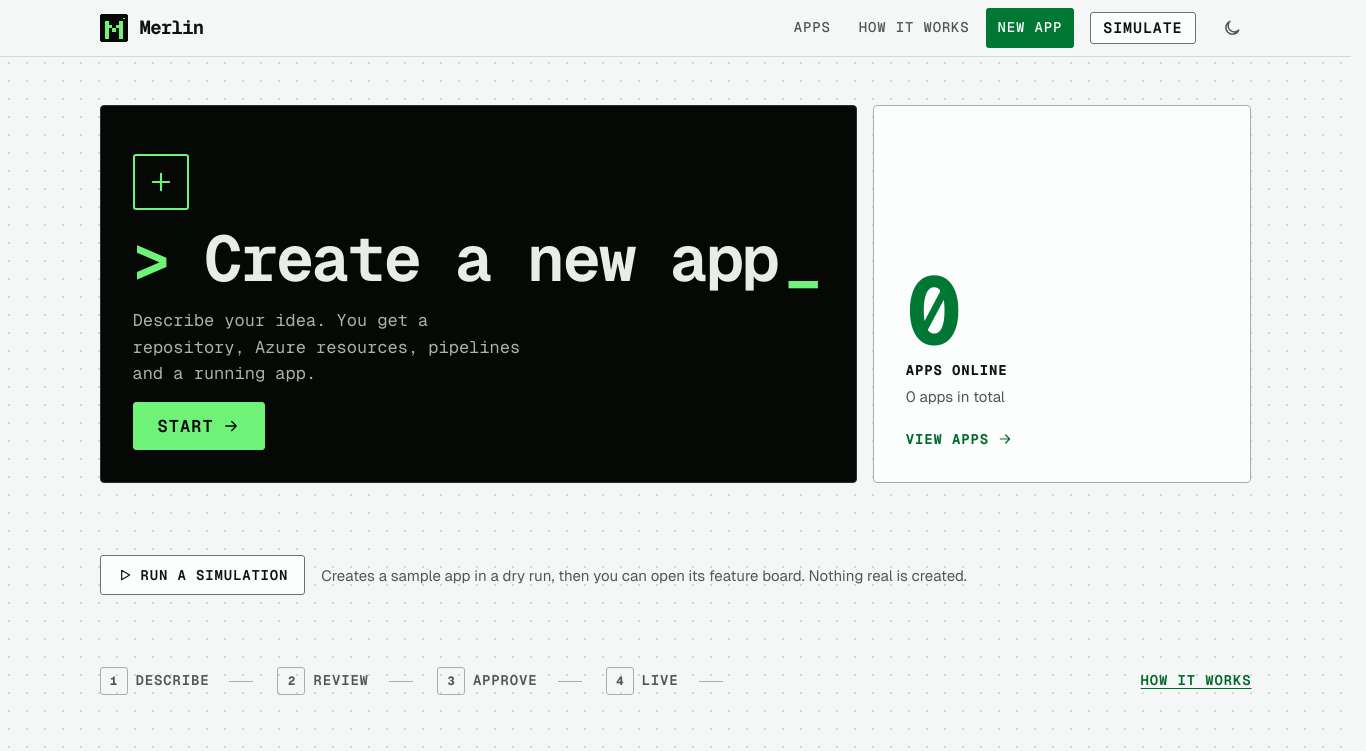
it: Merlin › starts a simulated dry run and opens its progress
Click the button "Run a simulation" at (202, 575), box [100,555,305,595]
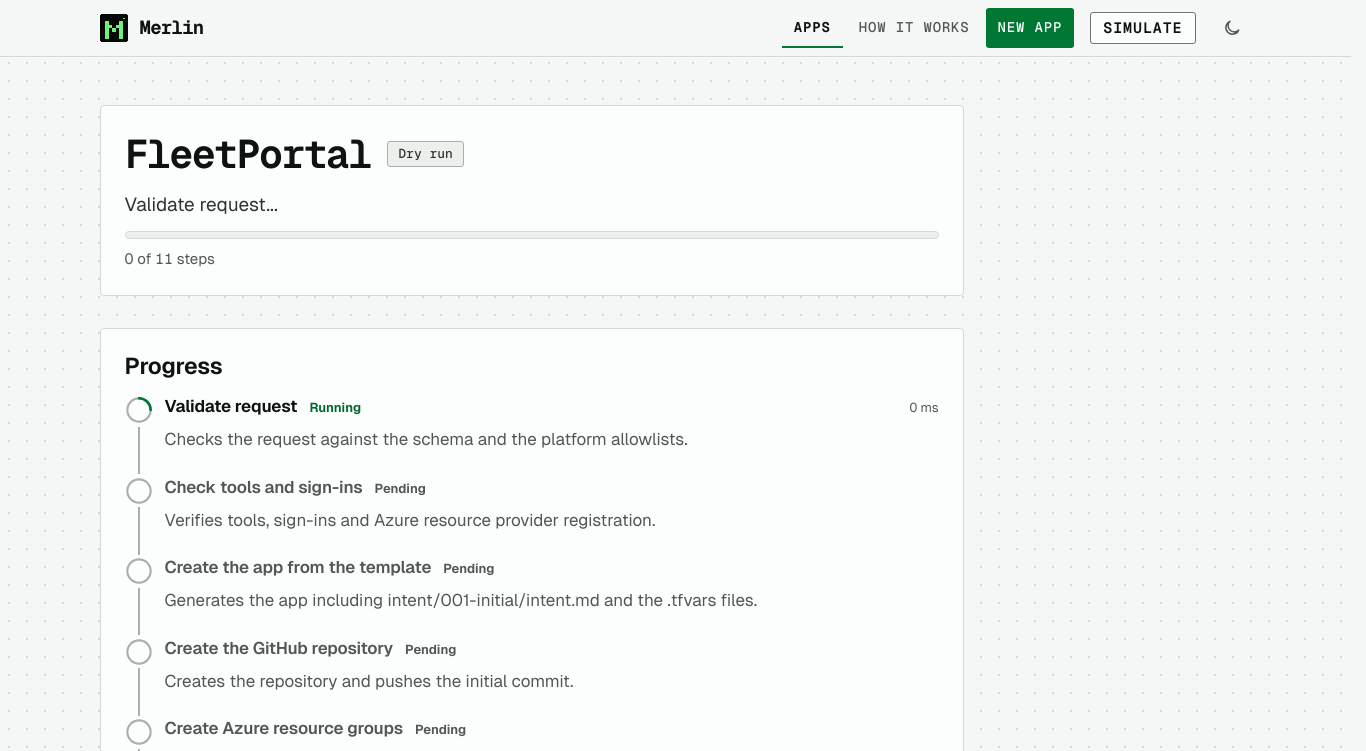
Expected: the text "Dry run" is shown, [387,141,464,167]
Expected: the heading "FleetPortal" is shown, [124,130,371,178]
